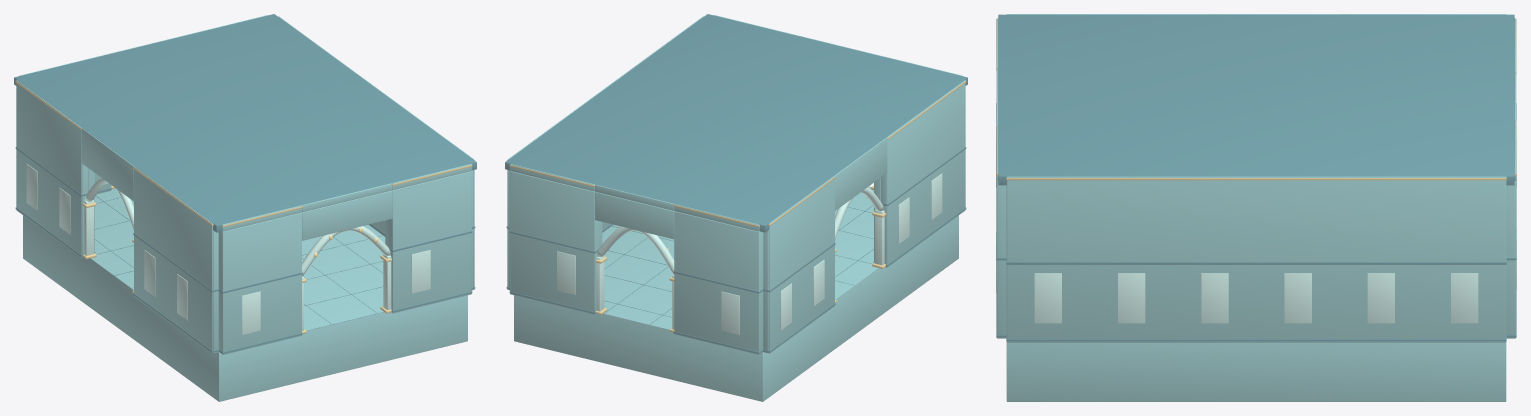
Rendered from atlantis_district_tideworks.glb.
3 renders of one model, left to right at view 1: azimuth 30°, elevation 25°; view 2: azimuth 150°, elevation 25°; view 3: azimuth 270°, elevation 25°, orthographic. The views are drawn at different scales.
Visible parts, largest first — view 1: atlantis_district_tideworks_surface; view 2: atlantis_district_tideworks_surface; view 3: atlantis_district_tideworks_surface.
Boxes of the visible parts, x1,y1,x2,y2 form: atlantis_district_tideworks_surface: [14, 14, 476, 401]; atlantis_district_tideworks_surface: [505, 14, 967, 401]; atlantis_district_tideworks_surface: [996, 14, 1516, 401].
Size of the model in its own units: 23.28 by 15.2 by 31.28.
